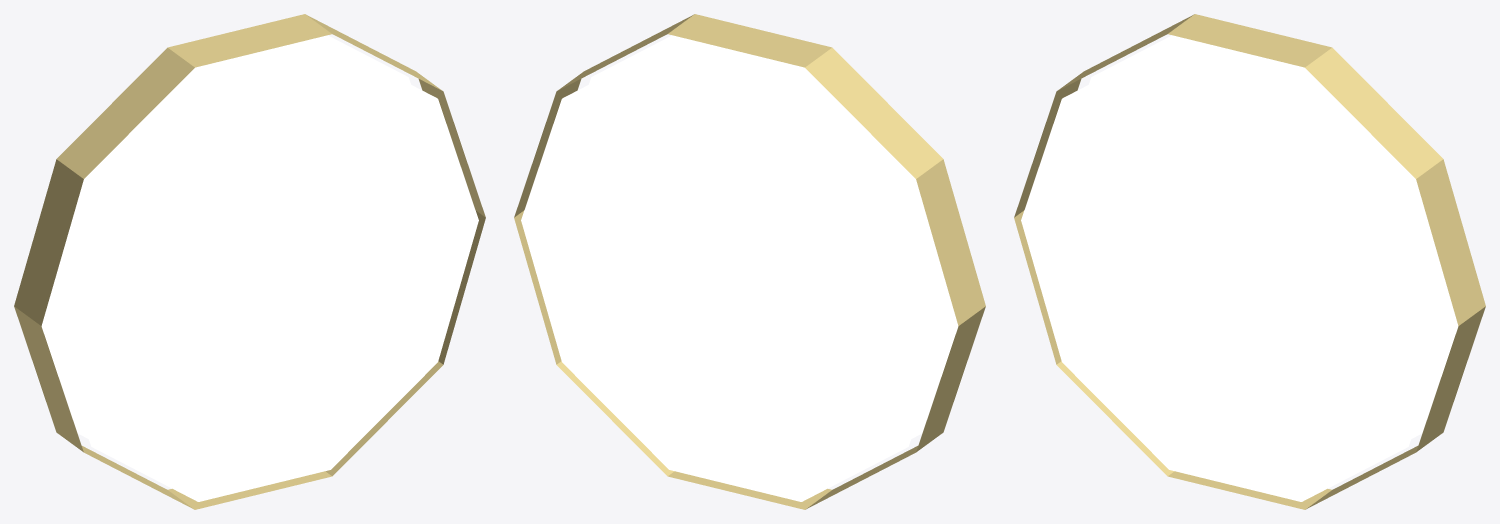
File: item_coin.glb
3 views of the same model, side by side, from view 1: azimuth 30°, elevation 25°; view 2: azimuth 150°, elevation 25°; view 3: azimuth 330°, elevation 25° (orthographic).
Visible parts, largest first — view 1: Item_coin; view 2: Item_coin; view 3: Item_coin.
Part boxes in pixels (x1,y1,x2,y2): Item_coin: (14, 14, 485, 509); Item_coin: (514, 14, 985, 509); Item_coin: (1014, 14, 1485, 509).
Bounding box in the file's own units: 0.28 × 0.2663 × 0.032.
